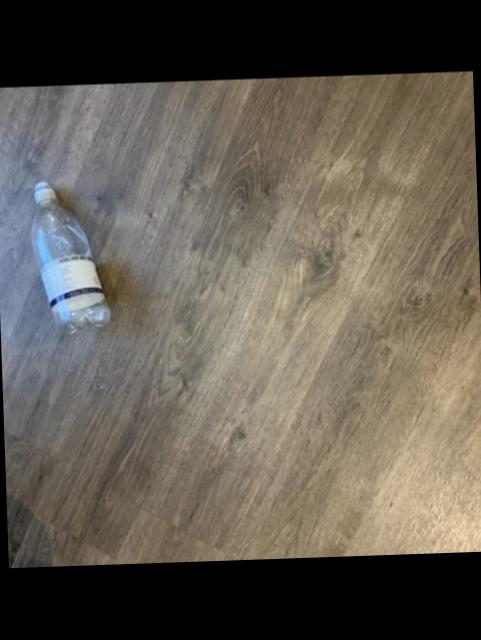plastic: (29, 185, 107, 332)
